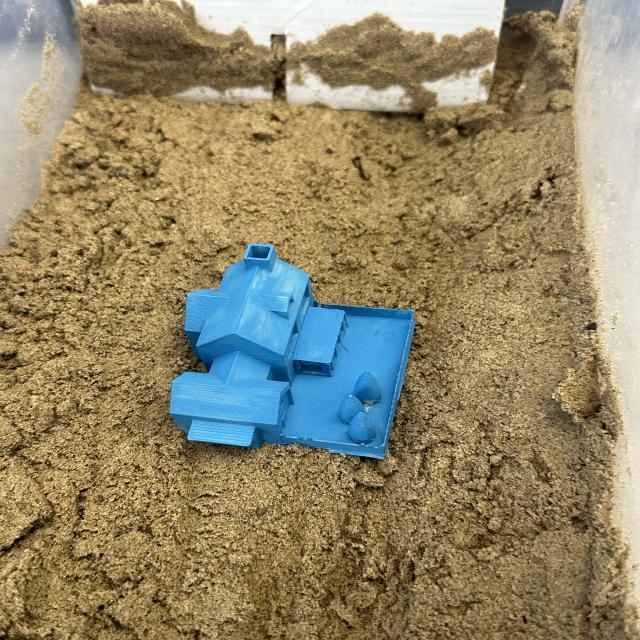house: (170, 240, 419, 467)
